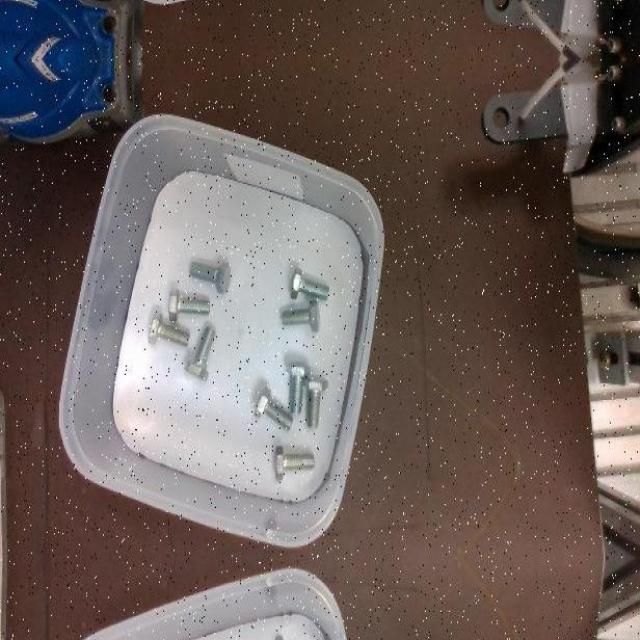screw: (254, 386, 294, 431), (184, 326, 216, 380), (148, 312, 190, 348), (274, 444, 315, 480), (169, 288, 211, 321), (304, 375, 330, 428), (286, 362, 312, 414), (189, 261, 232, 292), (291, 266, 329, 301), (282, 300, 320, 332)
